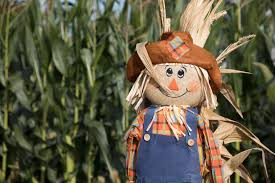person-like: (120, 29, 226, 183)
